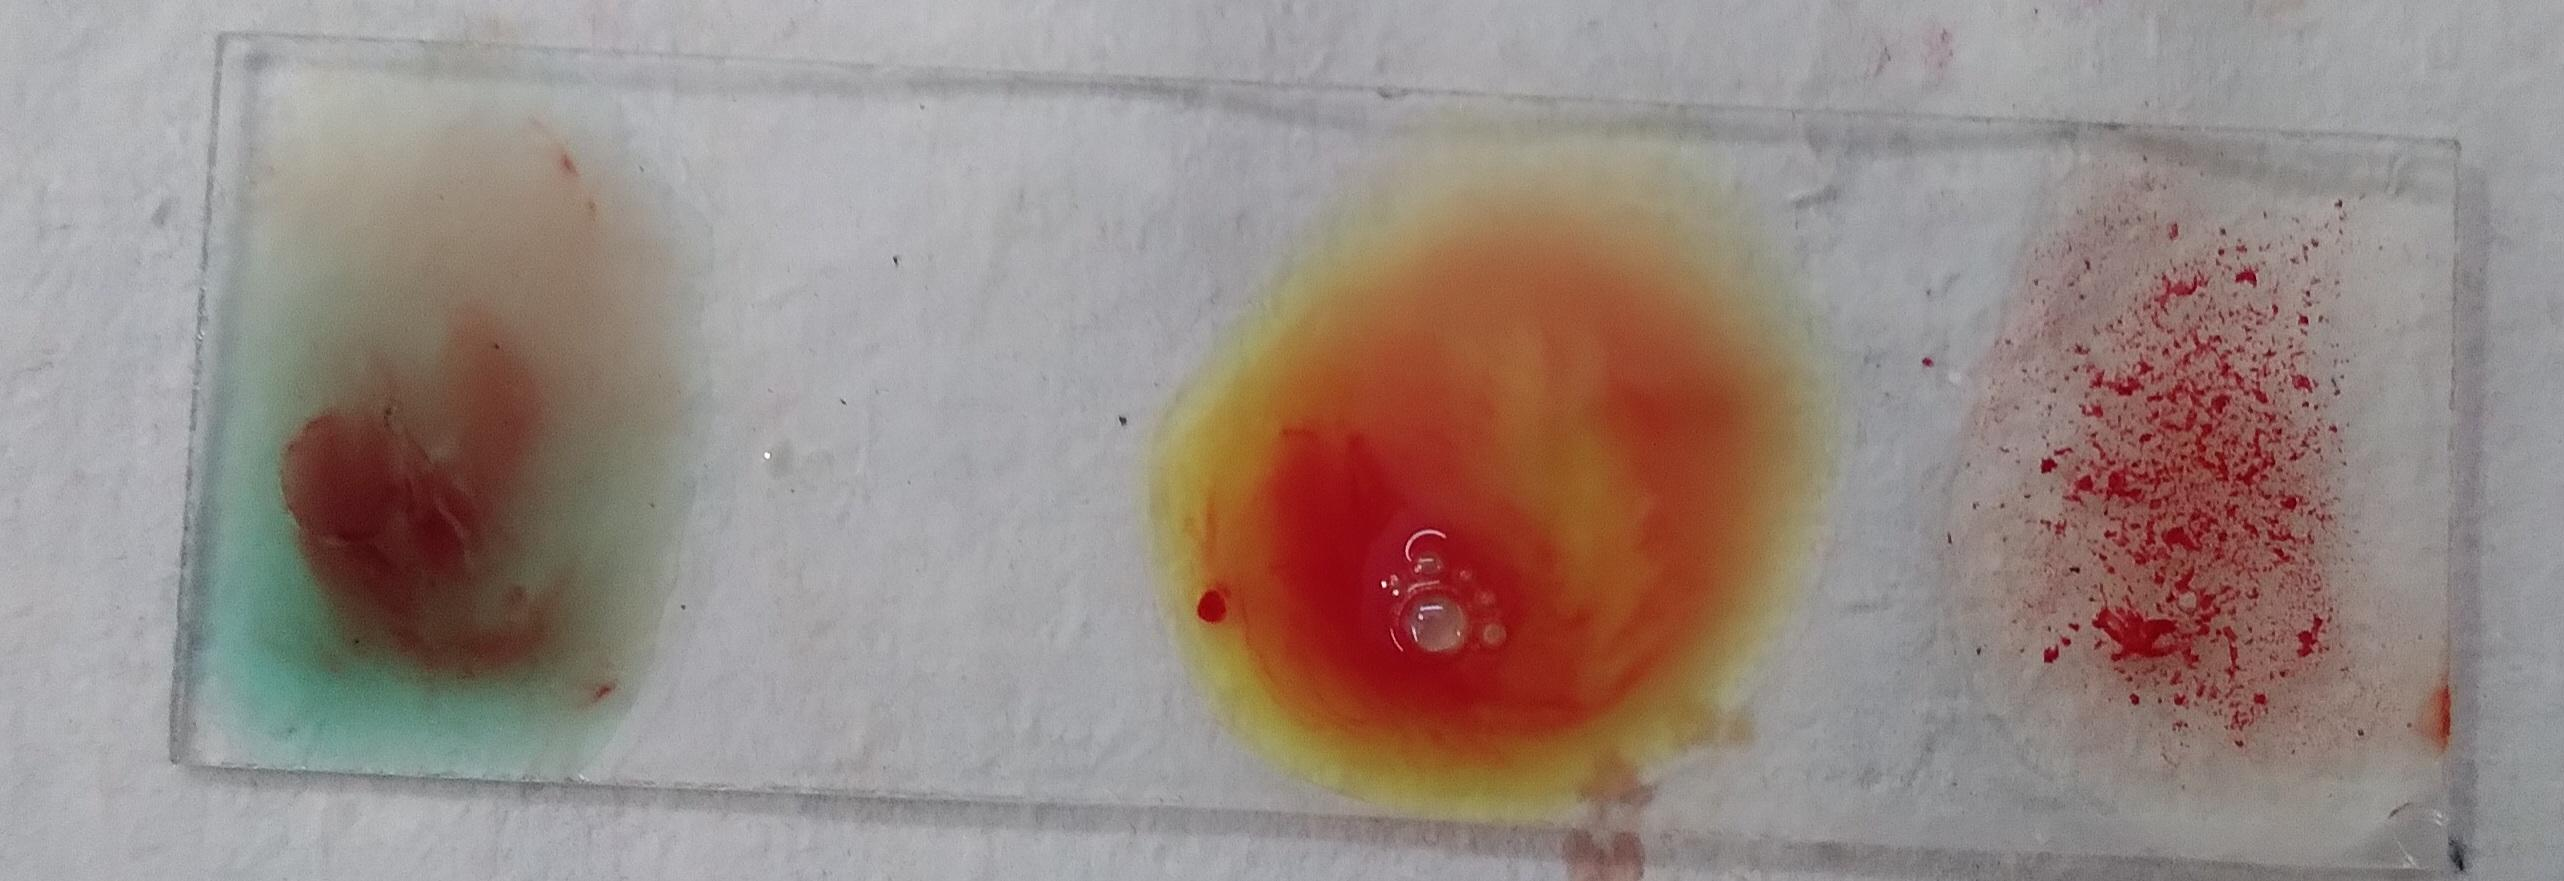D: (1980, 183, 2397, 794)
